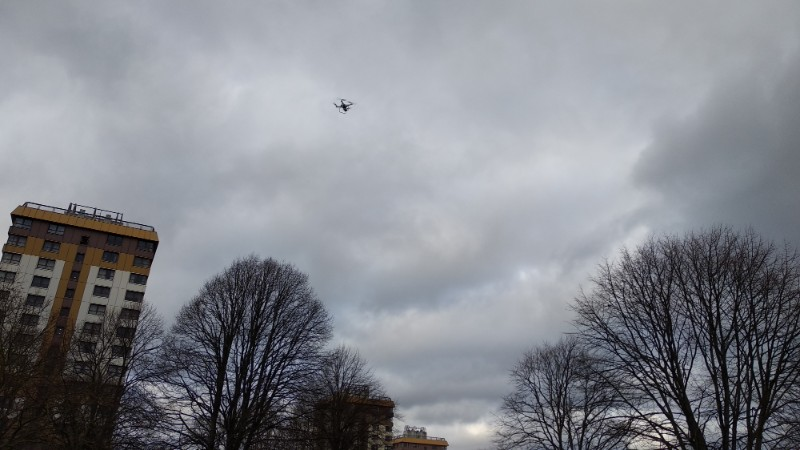drone: (334, 99, 353, 114)
